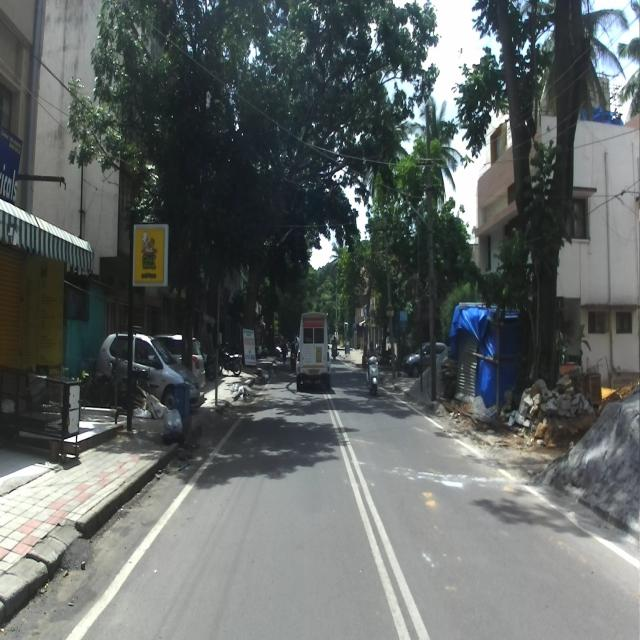car: (94, 325, 200, 410)
mini-bus: (294, 311, 333, 390)
scooter: (368, 354, 379, 395)
